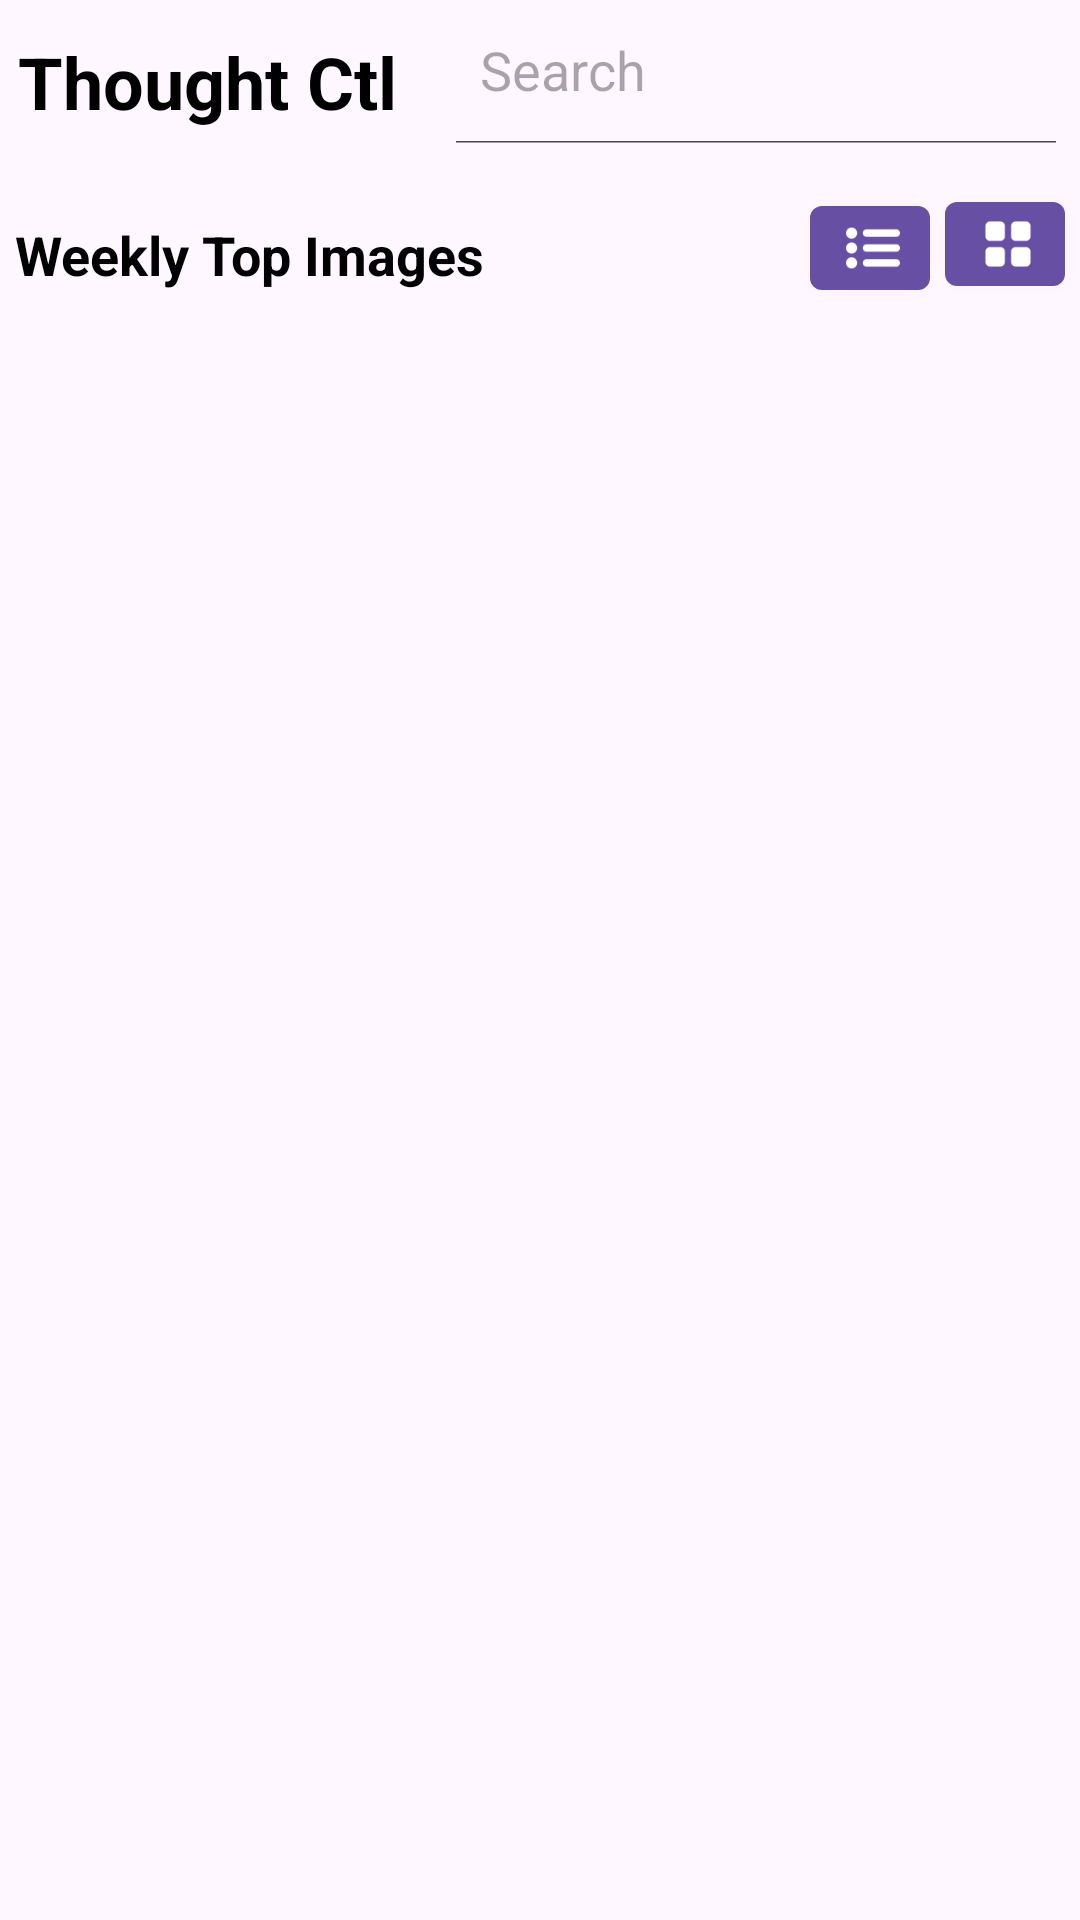

Icon bounding boxes for this 1080×1920 phone screenshot, format bbox=[x1, y1, x2, y2]:
grid view: bbox=[945, 202, 1065, 286]
list view: bbox=[810, 206, 930, 290]
